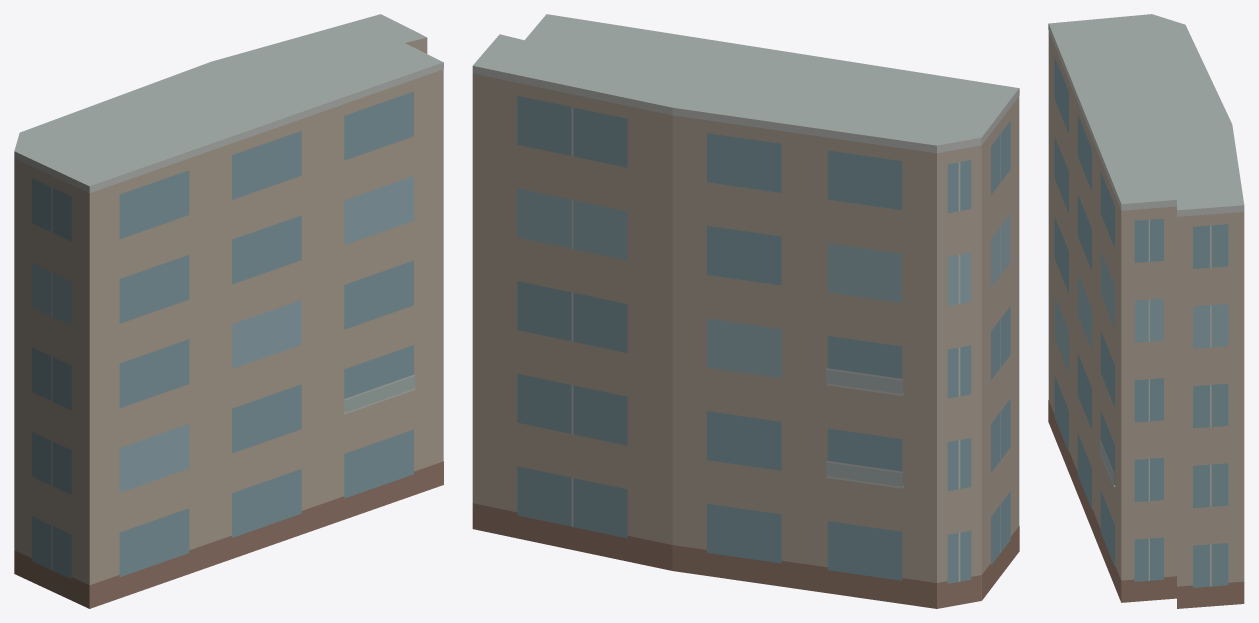
File: survey-upis-32476806.glb
The picture shows the model from 3 angles, left to right: view 1: azimuth 30°, elevation 25°; view 2: azimuth 150°, elevation 25°; view 3: azimuth 270°, elevation 25°; orthographic projection. The views are drawn at different scales.
Visible parts, largest first — view 1: survey-upis-32476806.tmp; view 2: survey-upis-32476806.tmp; view 3: survey-upis-32476806.tmp.
Boxes of the visible parts, x1,y1,x2,y2 form: survey-upis-32476806.tmp: [14, 14, 443, 608]; survey-upis-32476806.tmp: [472, 14, 1019, 608]; survey-upis-32476806.tmp: [1048, 14, 1244, 608].
Size of the model in its own units: 15.64 by 14.8 by 6.6.
